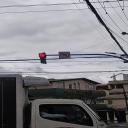NoVirarEsquerda: (56, 49, 73, 60)
